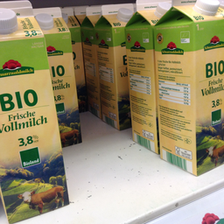milk: (1, 1, 73, 224), (155, 1, 224, 177), (32, 7, 87, 149)
